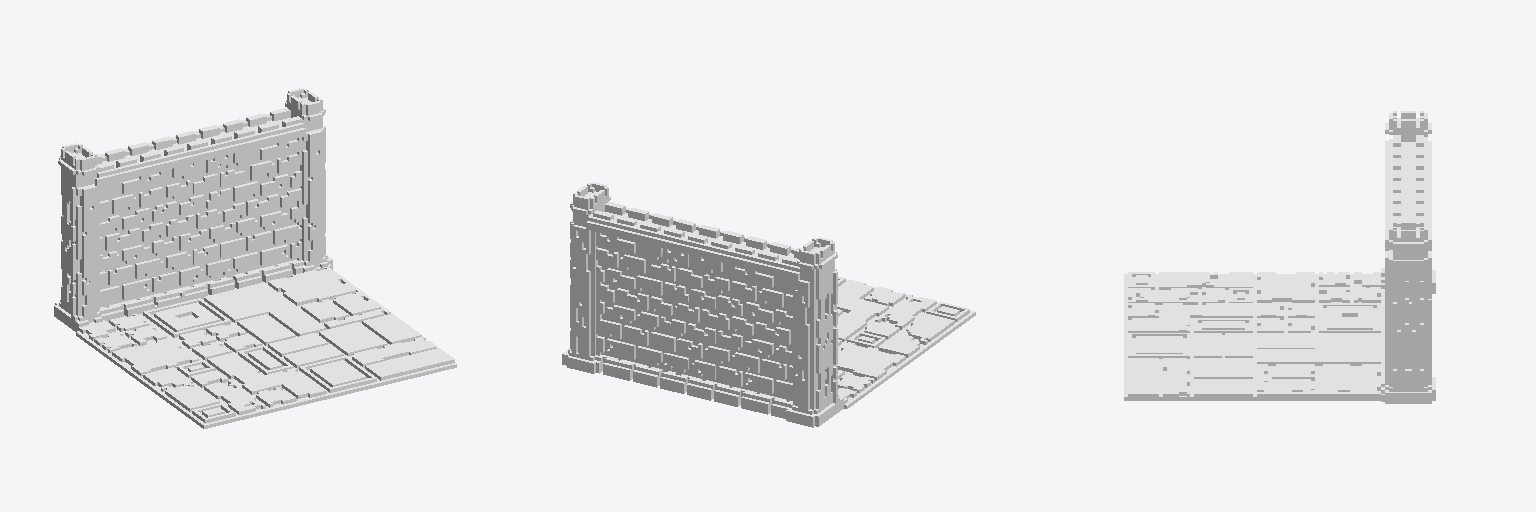
Rendered from wall_E.obj.
3 renders of one model, left to right at view 1: azimuth 30°, elevation 25°; view 2: azimuth 150°, elevation 25°; view 3: azimuth 270°, elevation 25°, orthographic.
Bounding box in the file's own units: 77 × 48 × 80.